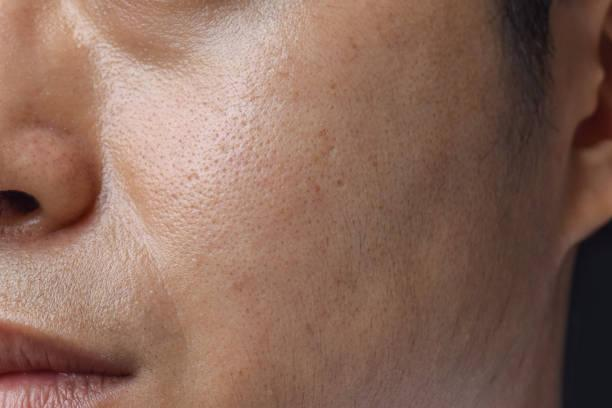Dry-Skin: (149, 86, 360, 260), (403, 54, 520, 303), (203, 276, 382, 408)
